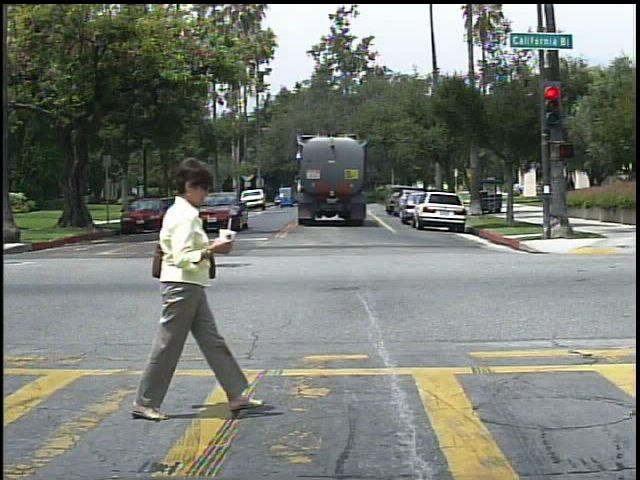person: (126, 151, 246, 423), (564, 172, 582, 206), (516, 181, 529, 200)
